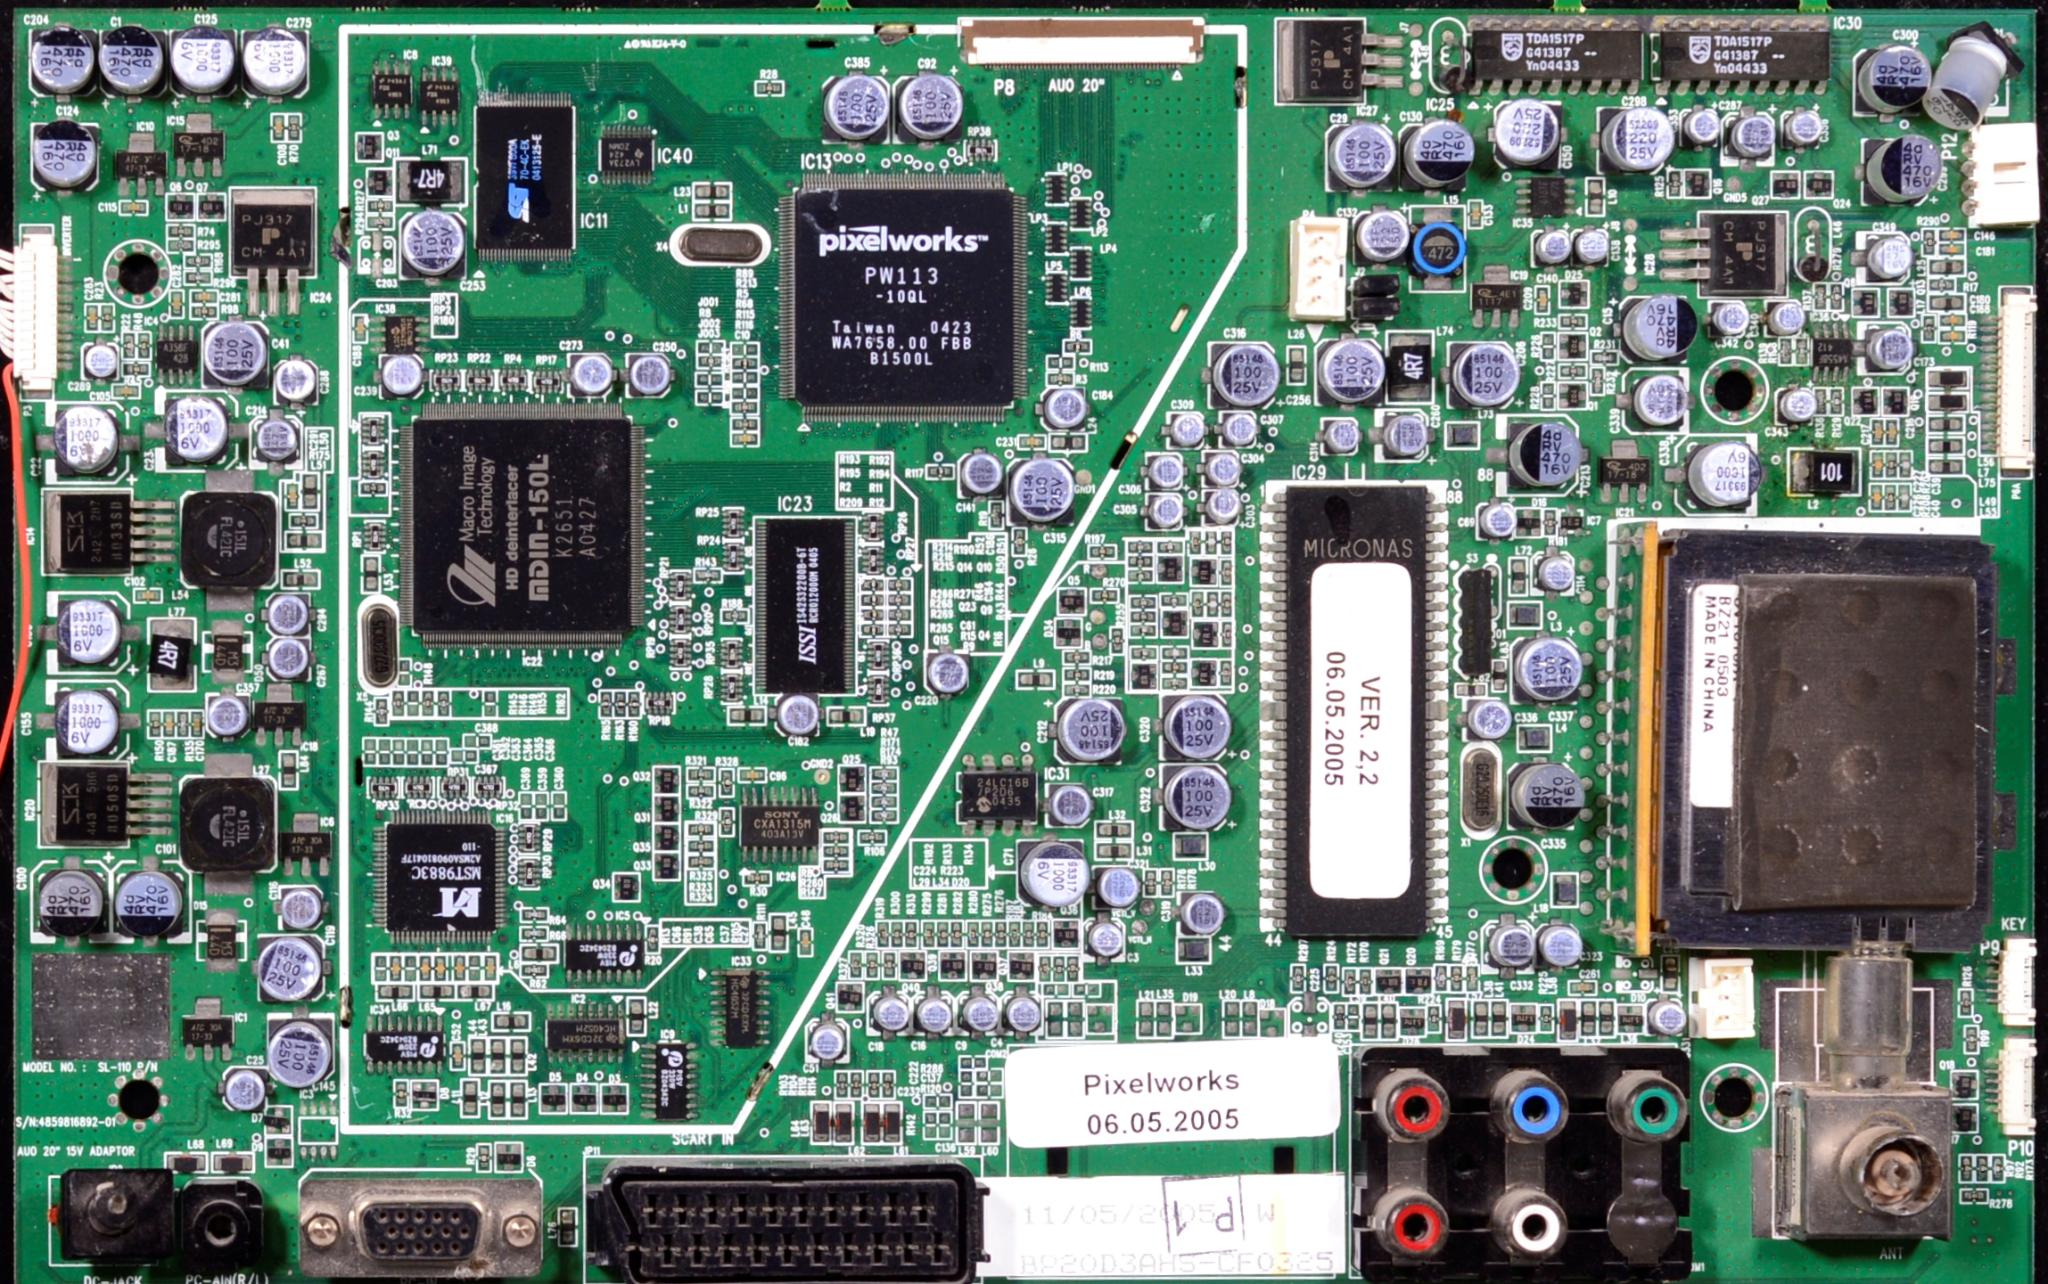Capacitor Jumper: (1514, 419, 1570, 487), (50, 691, 115, 747), (275, 1025, 331, 1083), (169, 398, 220, 459), (407, 222, 463, 277), (105, 27, 155, 87), (1028, 846, 1090, 895), (260, 941, 316, 994), (827, 80, 883, 132), (37, 120, 87, 178), (64, 602, 112, 661), (43, 873, 95, 927), (1615, 111, 1665, 167), (1634, 302, 1689, 352), (1217, 348, 1272, 398), (1882, 143, 1930, 200), (35, 34, 84, 87), (1335, 126, 1386, 176), (59, 419, 109, 469), (213, 327, 260, 379), (1702, 444, 1749, 496), (1179, 701, 1226, 750), (177, 33, 223, 83), (1014, 466, 1066, 510), (1329, 345, 1374, 395), (1519, 645, 1566, 691), (1065, 709, 1111, 756), (1523, 768, 1569, 815), (250, 34, 303, 74), (1869, 53, 1915, 99), (1504, 108, 1548, 155), (1634, 374, 1678, 420), (1417, 126, 1457, 175), (1459, 349, 1499, 398), (1176, 771, 1217, 817), (906, 83, 948, 127), (127, 879, 173, 919), (253, 419, 297, 459), (1871, 330, 1910, 365), (927, 652, 963, 689), (1733, 118, 1770, 152), (281, 361, 315, 398), (1872, 232, 1903, 272), (229, 1074, 262, 1111), (1366, 217, 1403, 250), (210, 698, 243, 732), (809, 1022, 840, 1058), (575, 357, 606, 392), (1493, 929, 1526, 960), (637, 358, 668, 391), (272, 643, 306, 673), (1390, 414, 1418, 450), (969, 457, 1003, 485), (271, 602, 303, 630), (1477, 709, 1505, 741), (1187, 896, 1214, 930), (1048, 396, 1079, 425), (1776, 391, 1808, 417), (290, 891, 313, 926), (1149, 501, 1177, 531), (877, 996, 903, 1027), (1542, 929, 1572, 956), (920, 999, 946, 1028), (1057, 788, 1084, 818), (967, 1000, 995, 1027), (1008, 1001, 1035, 1030), (389, 359, 416, 388), (1774, 306, 1800, 334), (1223, 411, 1248, 439), (1539, 556, 1564, 584), (89, 346, 112, 376), (1652, 1003, 1678, 1028), (1173, 416, 1196, 444), (1328, 423, 1353, 448), (1791, 115, 1817, 138), (1689, 115, 1714, 138), (1213, 453, 1232, 481), (1715, 306, 1740, 327), (1489, 506, 1510, 531), (1150, 459, 1173, 481), (1208, 493, 1230, 515), (1582, 232, 1601, 253), (1548, 234, 1563, 260), (271, 115, 282, 142), (84, 303, 96, 328), (170, 287, 180, 315), (121, 200, 145, 212), (355, 317, 365, 343), (133, 590, 160, 599), (114, 383, 136, 393), (435, 740, 444, 763), (1567, 985, 1596, 993), (287, 485, 297, 504), (435, 956, 444, 978), (192, 291, 219, 299), (800, 929, 809, 950), (450, 1046, 458, 1067), (553, 794, 562, 815), (166, 710, 173, 734), (961, 1070, 983, 1077), (466, 735, 484, 744), (1538, 288, 1545, 309), (393, 740, 401, 760), (742, 771, 763, 778), (486, 957, 494, 976), (1887, 420, 1894, 439), (452, 750, 472, 757), (1473, 203, 1479, 226), (452, 956, 458, 978), (365, 741, 371, 763), (423, 741, 429, 762), (736, 420, 753, 428), (535, 796, 543, 812), (392, 959, 398, 978), (1022, 438, 1041, 444), (1942, 246, 1959, 251), (383, 737, 387, 759), (1939, 231, 1955, 237), (736, 435, 753, 441), (192, 714, 198, 731), (408, 743, 414, 759), (1875, 454, 1879, 475), (1872, 484, 1876, 504), (1944, 318, 1964, 322), (421, 956, 426, 973), (1943, 334, 1956, 339), (1876, 423, 1879, 442), (523, 794, 526, 812)
IC: (797, 189, 1014, 414), (418, 417, 624, 639), (759, 519, 849, 688), (478, 109, 571, 246), (386, 820, 489, 927), (1471, 30, 1632, 75), (40, 759, 129, 840), (232, 192, 311, 283), (1276, 22, 1360, 98), (1668, 37, 1817, 78), (1701, 212, 1774, 294), (50, 499, 124, 565), (960, 774, 1031, 820), (739, 806, 819, 846), (600, 127, 651, 179), (725, 969, 757, 1043), (123, 132, 169, 180), (364, 1031, 442, 1058), (660, 1041, 686, 1114), (546, 1021, 624, 1044), (569, 941, 637, 966), (177, 124, 216, 163), (160, 336, 197, 373), (374, 70, 411, 107), (185, 1018, 234, 1040), (1598, 459, 1644, 481), (426, 71, 454, 107), (259, 700, 299, 723), (384, 317, 411, 351), (287, 831, 327, 854), (1479, 284, 1516, 306), (1535, 182, 1559, 214), (1820, 339, 1847, 362), (1563, 513, 1578, 530)
Resistor Jumper: (288, 115, 300, 141), (1088, 544, 1116, 555), (988, 503, 1000, 527), (868, 766, 895, 777), (1814, 392, 1826, 414), (694, 568, 716, 580), (1090, 587, 1112, 599), (1066, 340, 1087, 352), (949, 919, 958, 944), (290, 515, 315, 524), (960, 1056, 983, 1065), (1931, 280, 1955, 288), (1590, 352, 1613, 361), (123, 364, 146, 373), (887, 577, 905, 589), (720, 608, 744, 617), (600, 692, 609, 716), (689, 822, 713, 831), (1541, 334, 1551, 354), (646, 927, 655, 950), (170, 241, 192, 250), (192, 309, 214, 318), (1047, 373, 1069, 382), (627, 691, 636, 713), (376, 700, 384, 722), (151, 716, 160, 738), (1045, 357, 1071, 364), (614, 689, 621, 714), (850, 1074, 859, 1095), (733, 389, 754, 398), (1544, 386, 1554, 404), (688, 787, 708, 796), (824, 830, 844, 839), (880, 919, 887, 942), (104, 305, 111, 328), (1292, 966, 1301, 985), (1968, 1027, 1977, 1046), (1961, 1158, 1970, 1177), (1588, 370, 1597, 389), (1204, 528, 1213, 547), (1113, 629, 1122, 648), (1063, 651, 1082, 660), (691, 768, 710, 777), (1962, 988, 1968, 1016), (754, 925, 762, 947), (850, 951, 858, 973), (185, 257, 207, 265), (139, 334, 146, 357), (1360, 969, 1369, 987), (1560, 365, 1578, 374), (930, 467, 948, 476), (1189, 531, 1198, 549), (484, 691, 492, 709), (937, 920, 945, 941), (1325, 966, 1332, 987), (1451, 966, 1458, 987), (699, 358, 720, 365), (1900, 488, 1908, 509), (1547, 512, 1554, 533), (1068, 686, 1088, 694), (176, 713, 183, 734), (688, 856, 708, 864), (1131, 541, 1147, 550), (864, 578, 880, 587), (890, 624, 906, 633), (759, 83, 775, 92), (744, 871, 760, 880), (370, 203, 389, 210), (188, 274, 207, 281), (123, 336, 130, 355), (733, 361, 753, 368), (735, 404, 754, 411), (1220, 533, 1227, 552), (864, 830, 883, 837), (523, 910, 547, 916), (893, 920, 899, 944), (1431, 1006, 1437, 1030), (1560, 318, 1584, 324), (1832, 391, 1838, 414), (1053, 957, 1060, 975), (1347, 967, 1353, 990), (1992, 1158, 1999, 1176), (889, 611, 911, 617), (1220, 663, 1227, 680), (1042, 954, 1048, 975), (963, 1084, 983, 1090), (370, 219, 390, 225), (874, 785, 895, 791), (1964, 1191, 1980, 1198), (1885, 457, 1893, 473), (1161, 543, 1177, 550), (1133, 646, 1149, 654), (828, 845, 844, 852), (827, 861, 843, 868), (1131, 567, 1145, 575), (997, 922, 1003, 941), (979, 923, 985, 942), (735, 374, 754, 380), (1013, 533, 1019, 552), (1193, 590, 1199, 609), (1223, 595, 1229, 614), (395, 694, 401, 713), (723, 812, 729, 831), (694, 839, 713, 845), (970, 920, 974, 945), (871, 954, 875, 979), (1795, 345, 1803, 359), (1165, 645, 1180, 652), (1038, 922, 1044, 939), (884, 954, 890, 972), (523, 964, 541, 970), (1470, 967, 1476, 985), (1925, 231, 1931, 249), (1834, 285, 1838, 309), (1924, 317, 1930, 334), (1782, 340, 1788, 358), (889, 596, 906, 602), (1207, 593, 1213, 611), (438, 692, 444, 710), (872, 797, 896, 802), (1161, 873, 1167, 891), (1816, 285, 1820, 308), (732, 348, 754, 352), (1165, 676, 1179, 683), (424, 691, 429, 713), (725, 769, 729, 791), (173, 228, 189, 234), (1161, 595, 1177, 601), (862, 624, 878, 630), (906, 922, 911, 942), (1903, 454, 1908, 475), (1221, 623, 1226, 643), (1979, 1158, 1984, 1173), (862, 596, 877, 602), (1013, 922, 1017, 941), (1439, 966, 1443, 985), (1887, 488, 1891, 507), (1026, 922, 1031, 939), (884, 1074, 889, 1092), (482, 1146, 486, 1164), (1131, 556, 1145, 562), (1134, 596, 1147, 602), (1134, 614, 1147, 620), (1134, 624, 1147, 630), (869, 1074, 874, 1090), (1671, 175, 1675, 191), (1066, 672, 1082, 676), (874, 812, 890, 817), (401, 1083, 404, 1105), (1165, 663, 1180, 667), (1226, 561, 1229, 581), (865, 609, 878, 614), (522, 932, 541, 935), (924, 922, 927, 939), (838, 1074, 841, 1092), (1147, 873, 1150, 889), (1071, 960, 1074, 975)
Transistor: (833, 982, 859, 1010), (1128, 663, 1156, 685), (361, 135, 384, 158), (370, 170, 393, 194), (1952, 1104, 1974, 1129), (1850, 389, 1875, 411), (903, 950, 923, 976), (615, 876, 637, 898), (170, 195, 191, 219), (973, 954, 995, 975), (1159, 558, 1181, 578), (943, 953, 963, 976), (201, 192, 219, 217), (1562, 333, 1579, 358), (1380, 969, 1399, 990), (1956, 1074, 1976, 1095), (655, 855, 674, 876), (1884, 393, 1906, 411), (1854, 293, 1874, 312), (1567, 385, 1587, 404), (1060, 590, 1079, 609), (1013, 956, 1034, 973), (1162, 609, 1180, 630), (658, 769, 676, 790), (843, 768, 861, 787), (1193, 663, 1210, 683), (655, 828, 673, 846), (1409, 970, 1425, 990), (1690, 173, 1706, 192), (1193, 621, 1210, 641), (843, 797, 859, 817), (661, 799, 676, 820), (1773, 178, 1791, 194), (1808, 178, 1825, 194), (1196, 562, 1211, 578)
